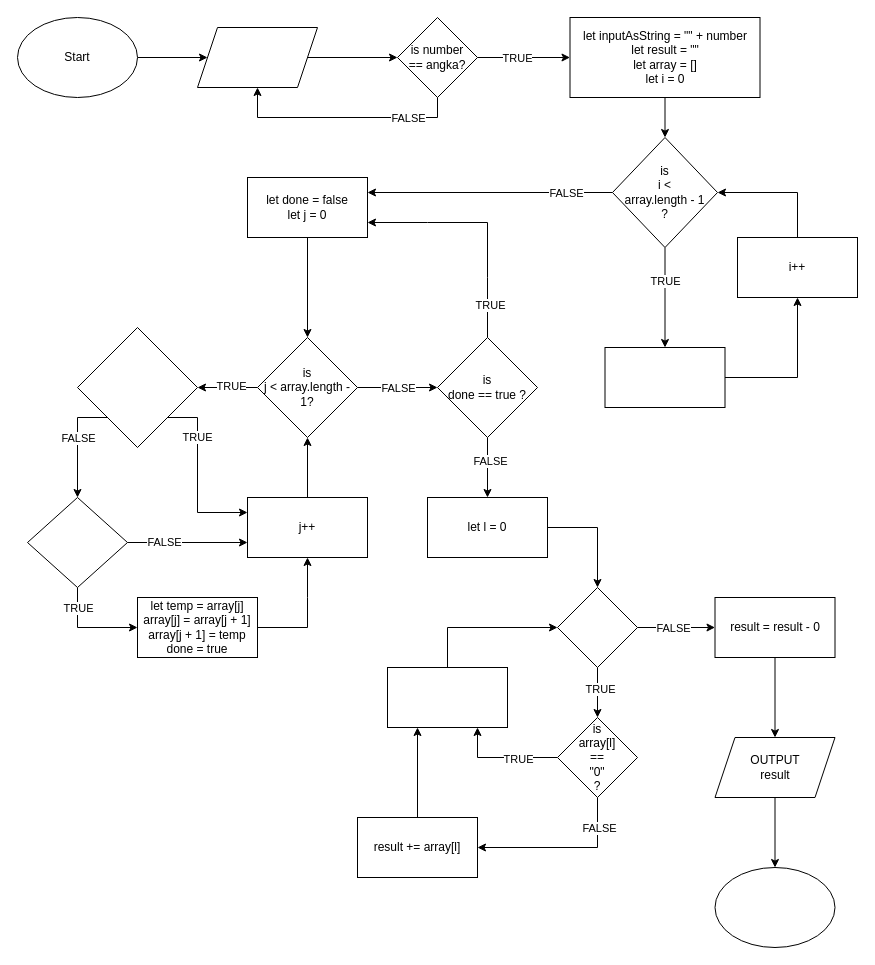
Some shapes in this 875 by 965 pixel diagram are drawn without their labels. Here are the shapes that lost their labels. From the top down, the centre of each, then its label:
pixel 257 57: INPUT number
pixel 137 387: is array[j] == "0" || array[j+1] == "0" ?
pixel 664 377: array[array.length] = inputAsString[i]
pixel 77 542: is array[j] > array[j+1] ?
pixel 597 627: is l < array.length?
pixel 447 697: l++
pixel 774 907: End
